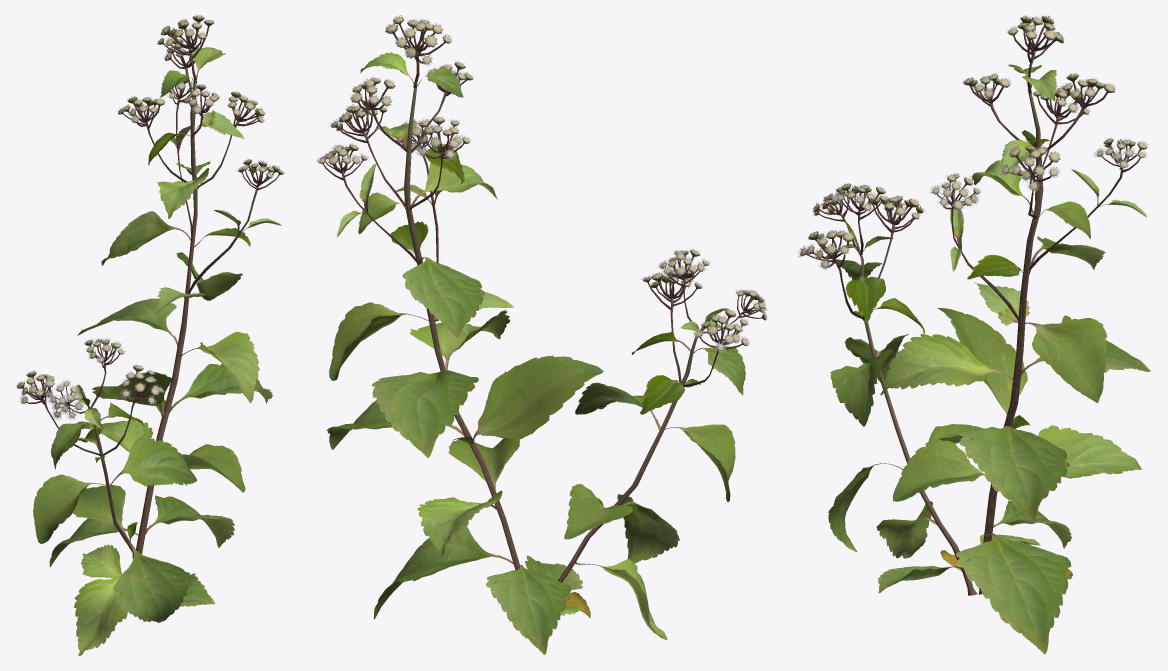
The model's file is shrub.glb.
3 views of the same model, side by side, from view 1: azimuth 30°, elevation 25°; view 2: azimuth 150°, elevation 25°; view 3: azimuth 270°, elevation 25° (orthographic). The views are drawn at different scales.
Parts seen in each view (by area): view 1: shrub_01_h_LOD0.001; view 2: shrub_01_h_LOD0.001; view 3: shrub_01_h_LOD0.001.
Part boxes in pixels (x1,y1,x2,y2): shrub_01_h_LOD0.001: (16, 14, 284, 655); shrub_01_h_LOD0.001: (316, 15, 767, 654); shrub_01_h_LOD0.001: (798, 15, 1150, 654).
Bounding box in the file's own units: 0.2321 × 0.3951 × 0.2017.
1 material, 1 textured.
